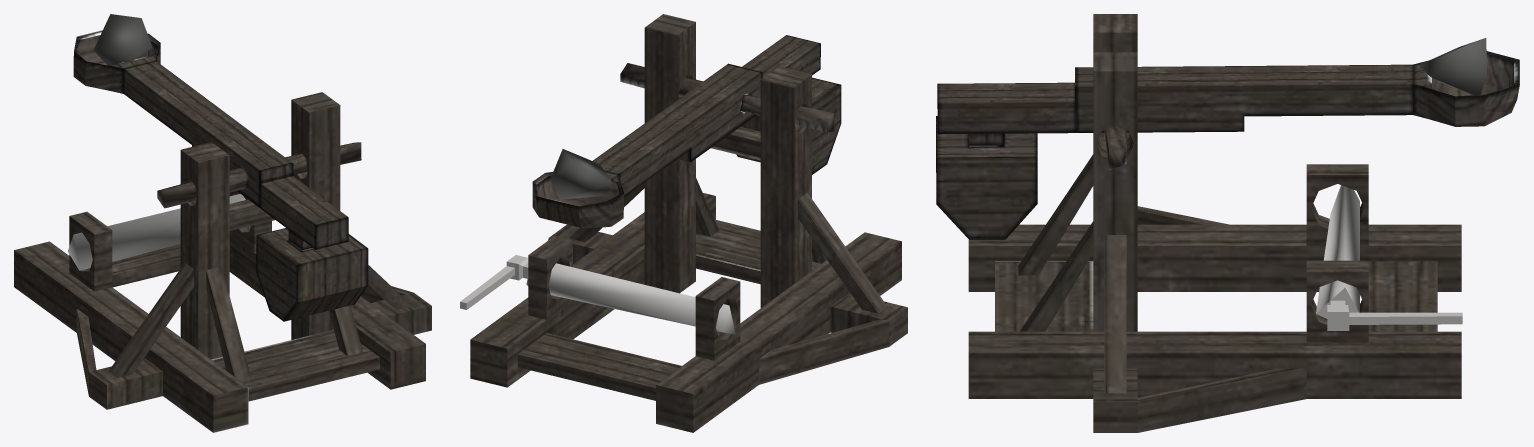
File: trebuchet-b.lod1.glb
The picture shows the model from 3 angles, left to right: view 1: azimuth 30°, elevation 25°; view 2: azimuth 150°, elevation 25°; view 3: azimuth 270°, elevation 25°; orthographic projection. The views are drawn at different scales.
Visible parts, largest first — view 1: TrebuchetBase_PlatformMaterial_0, TrebuchetSwingArm_SwingArmMaterial_0, TrebuchetRealeaseMech_ReleaseMechMaterial_0; view 2: TrebuchetBase_PlatformMaterial_0, TrebuchetSwingArm_SwingArmMaterial_0, TrebuchetRealeaseMech_ReleaseMechMaterial_0; view 3: TrebuchetBase_PlatformMaterial_0, TrebuchetSwingArm_SwingArmMaterial_0, TrebuchetRealeaseMech_ReleaseMechMaterial_0.
Part boxes in pixels (x1,y1,x2,y2): TrebuchetBase_PlatformMaterial_0: (14, 92, 431, 432); TrebuchetSwingArm_SwingArmMaterial_0: (73, 30, 368, 321); TrebuchetRealeaseMech_ReleaseMechMaterial_0: (68, 14, 245, 270); TrebuchetBase_PlatformMaterial_0: (470, 14, 907, 432); TrebuchetSwingArm_SwingArmMaterial_0: (532, 35, 841, 227); TrebuchetRealeaseMech_ReleaseMechMaterial_0: (460, 149, 735, 334); TrebuchetBase_PlatformMaterial_0: (968, 14, 1461, 432); TrebuchetSwingArm_SwingArmMaterial_0: (936, 51, 1519, 240); TrebuchetRealeaseMech_ReleaseMechMaterial_0: (1316, 38, 1486, 330).
Size of the model in its own units: 12.35 by 8.99 by 15.52.
Materials: 3 (2 with a texture image).
